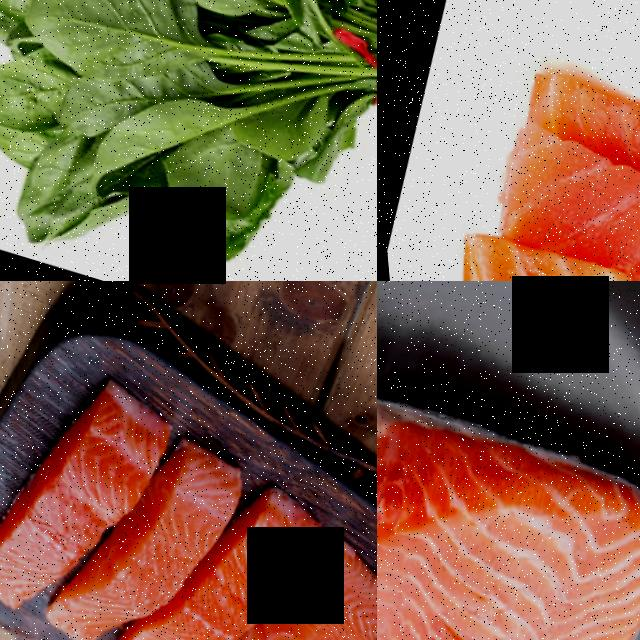salmon: (377, 303, 640, 640), (0, 366, 188, 607), (80, 421, 254, 640), (155, 467, 340, 640), (464, 111, 640, 281), (242, 532, 377, 640), (416, 224, 640, 281)
spinach: (1, 0, 218, 108), (0, 129, 111, 262), (145, 123, 268, 229), (0, 42, 68, 147), (221, 108, 314, 172), (170, 209, 247, 275)
